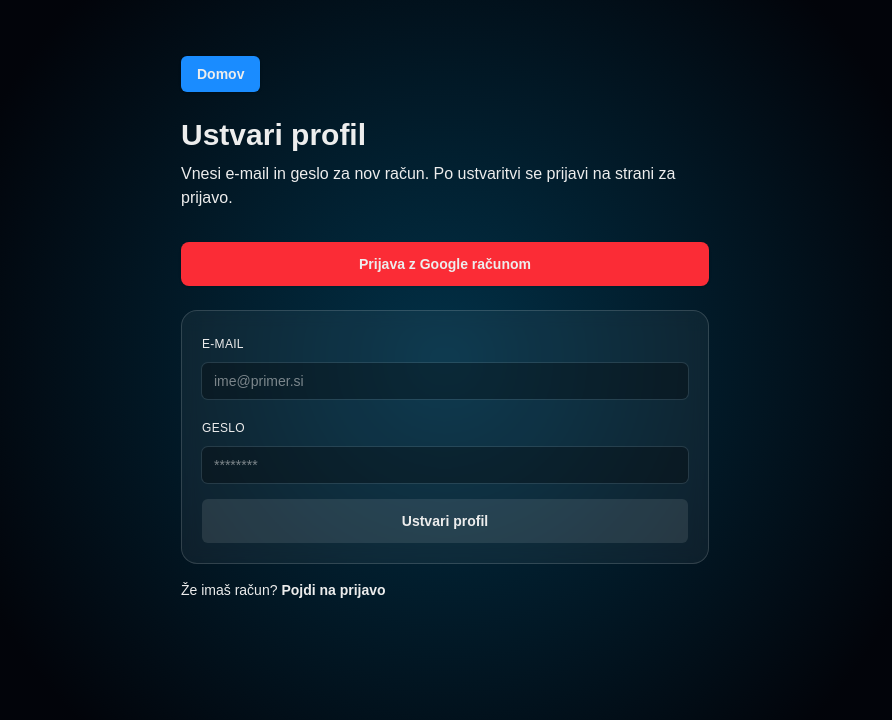
Test: Signup Page › prikaže sporočilo, če račun že obstaja
Type "test@example.com" into the field with placeholder "ime@primer.si" at (445, 381), box [202, 363, 688, 399]
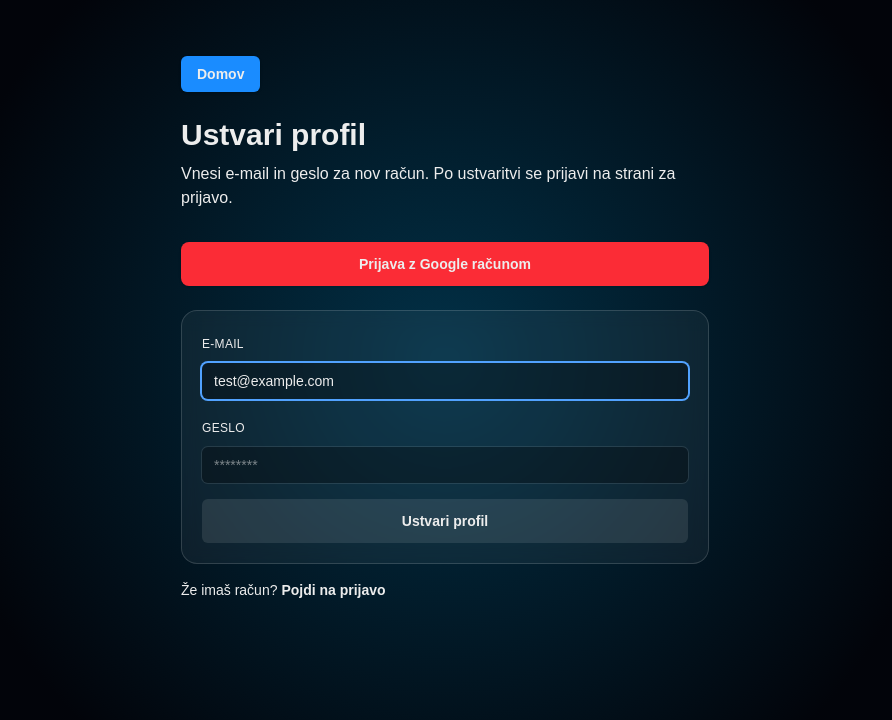
Type "password123" into the password field with placeholder "********" at (445, 465), box [202, 447, 688, 483]
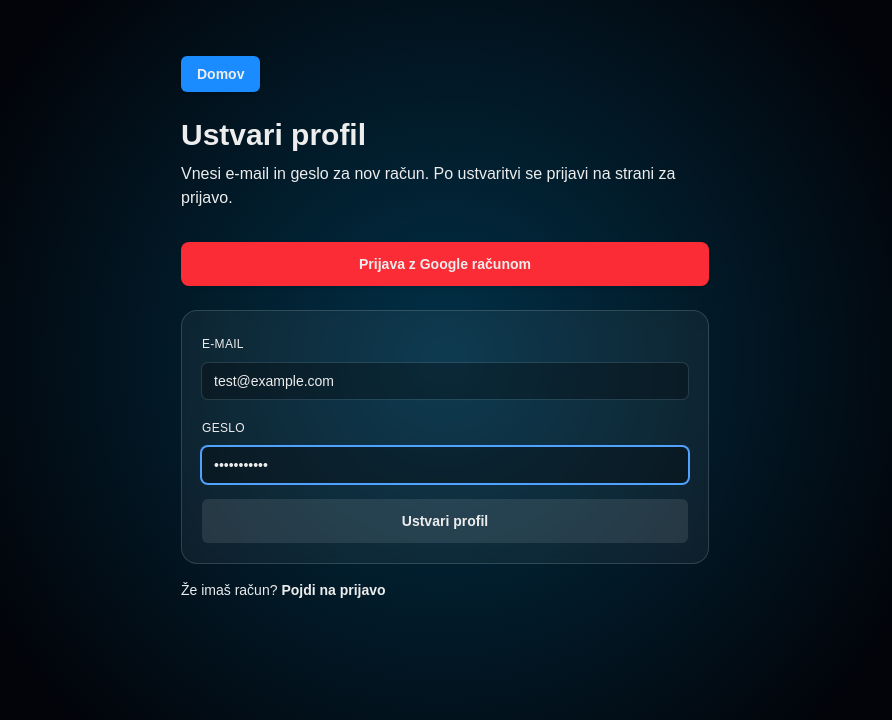
Submit the form, box [202, 331, 688, 543]
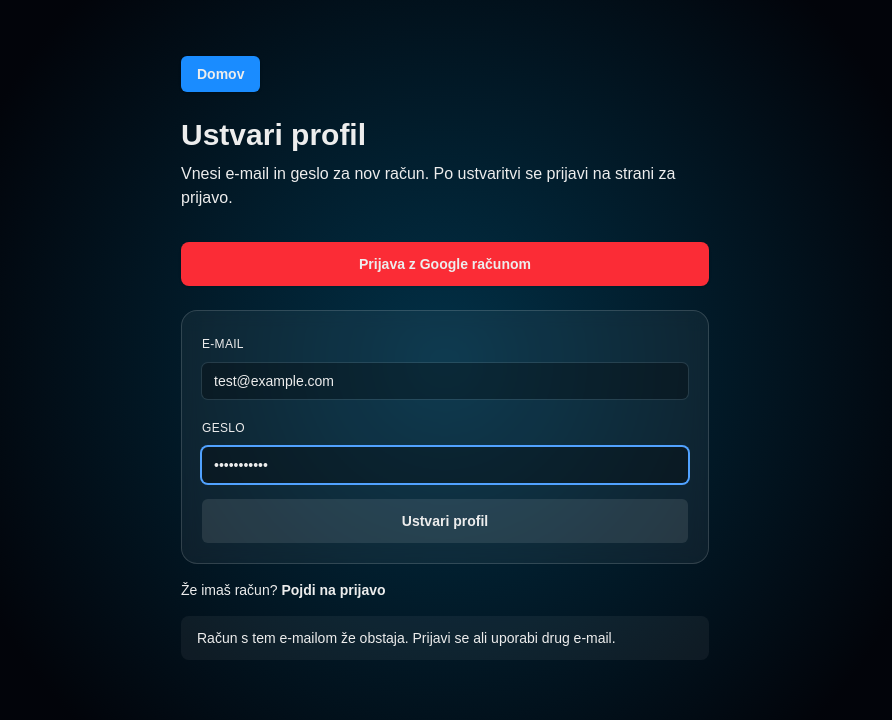
Result: the text "Račun s tem e-mailom že obstaja. Prijavi se ali uporabi drug e-mail." is shown at [181, 616, 709, 660]
